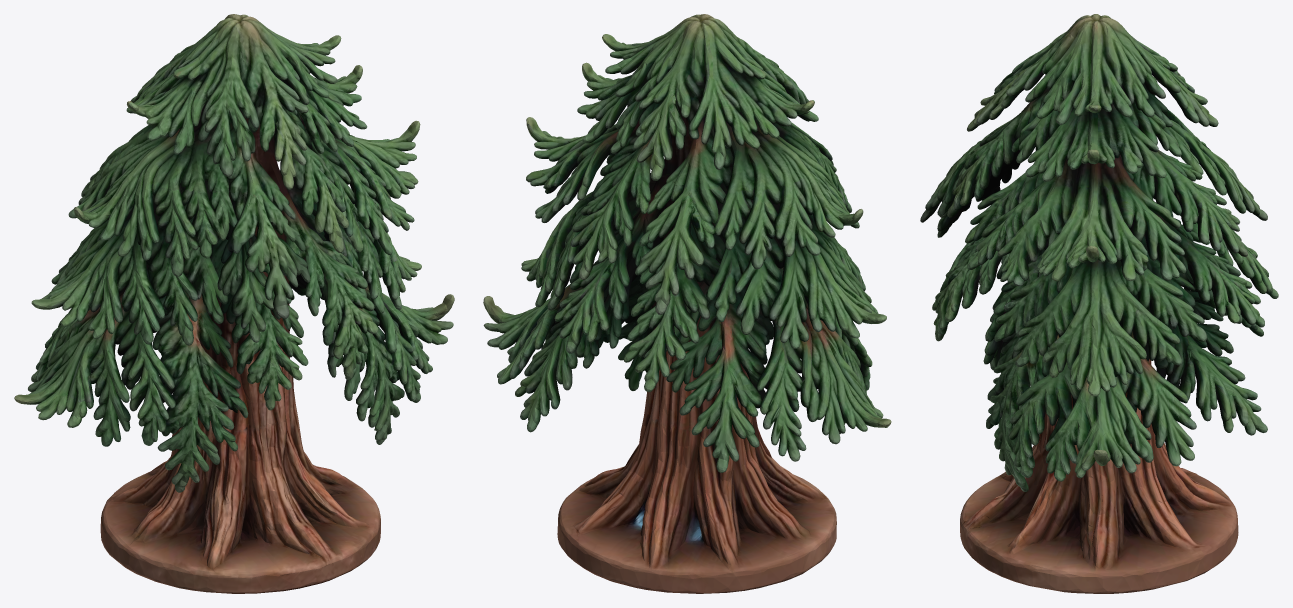
The model's file is western-red-cedar.glb.
The picture shows the model from 3 angles, left to right: view 1: azimuth 30°, elevation 25°; view 2: azimuth 150°, elevation 25°; view 3: azimuth 270°, elevation 25°; orthographic projection.
Parts seen in each view (by area): view 1: world; view 2: world; view 3: world.
Boxes of the visible parts, x1,y1,x2,y2 form: world: (14,14,454,593); world: (483,14,891,593); world: (920,14,1278,593).
Size of the model in its own units: 0.848 by 0.9938 by 0.6245.
1 material, 1 textured.
